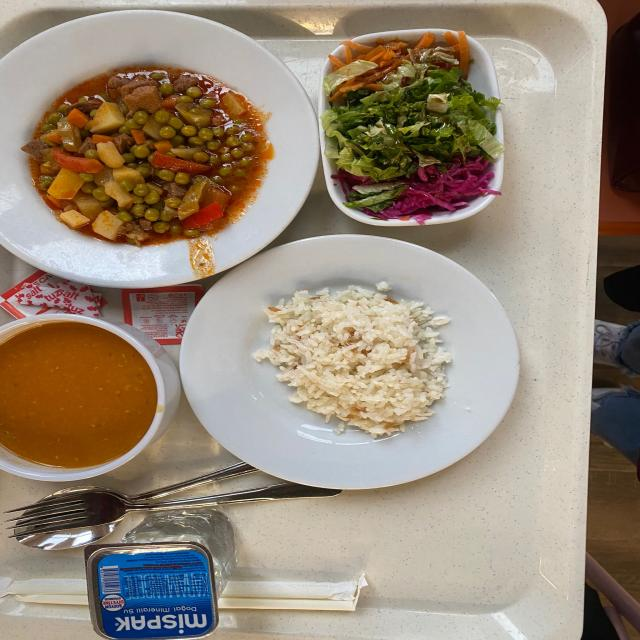ana_yemek: (32, 22, 293, 277), (261, 259, 488, 472)
corba: (3, 306, 178, 505)
yan_yemek: (327, 28, 530, 230)
